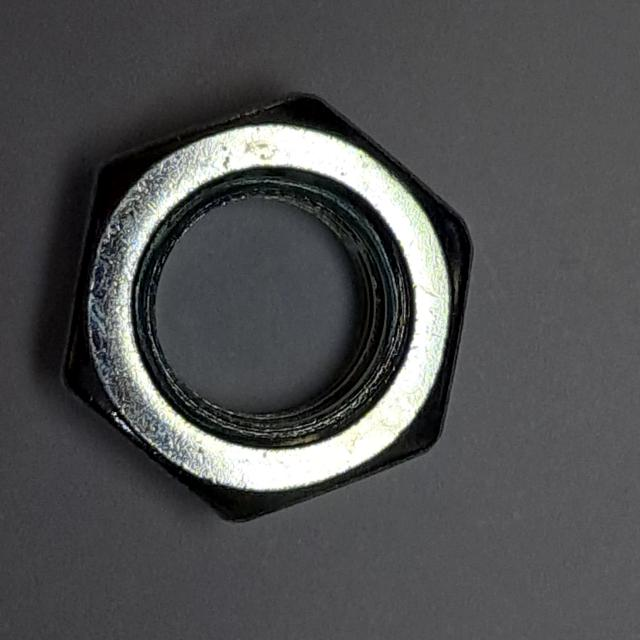Excellent: (49, 79, 479, 534)
